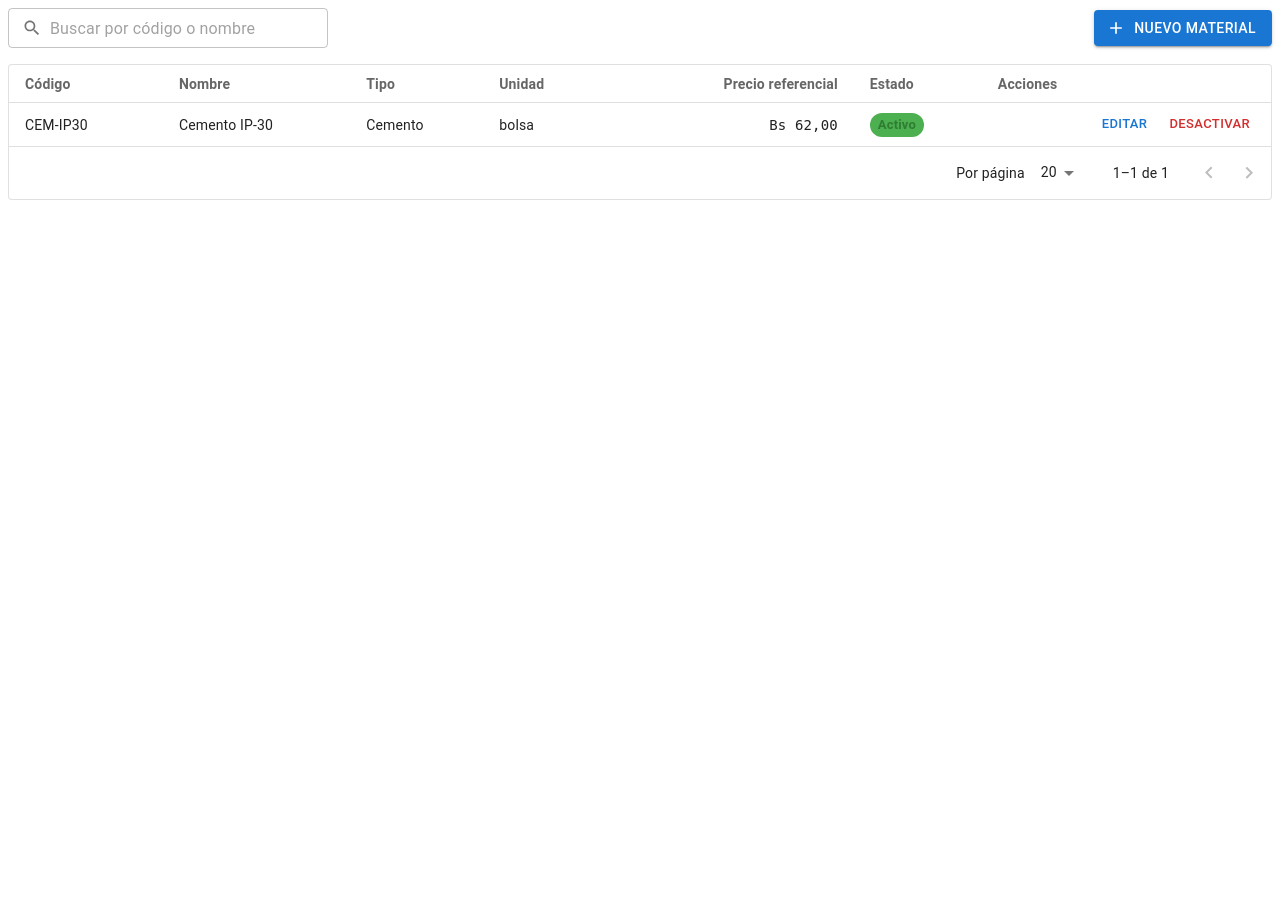
CatalogoPagina › editar abre el formulario con los datos del material y guarda con PUT completo
Click the button "Editar" at (1124, 125), box [1092, 109, 1156, 140]
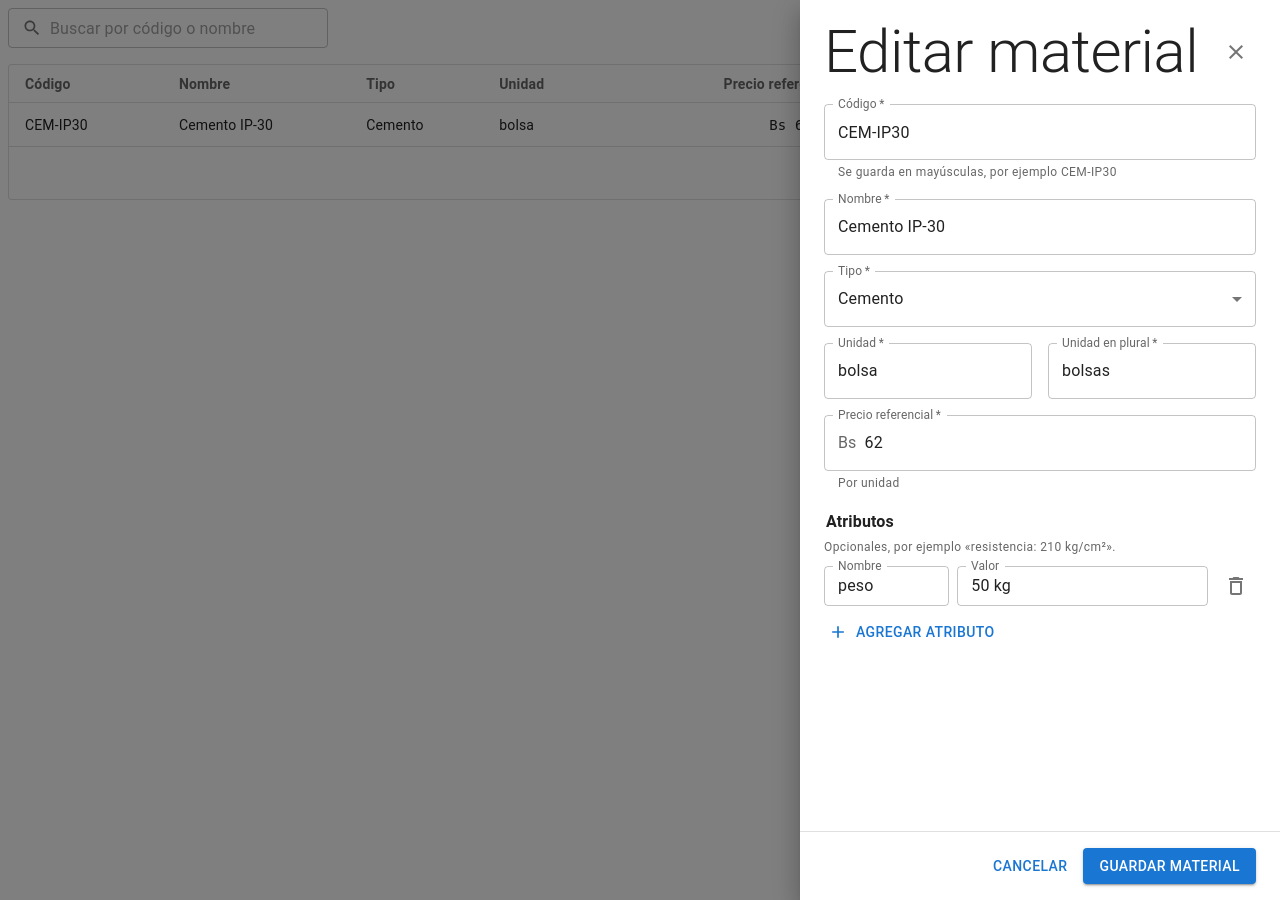
Check: the field named "Valor del atributo 1" holds "50 kg", box [957, 566, 1208, 606]
Replace the text in the field labelled "Nombre *" with "Cemento IP-30 Fancesa" at (1040, 227), box [824, 199, 1256, 255]
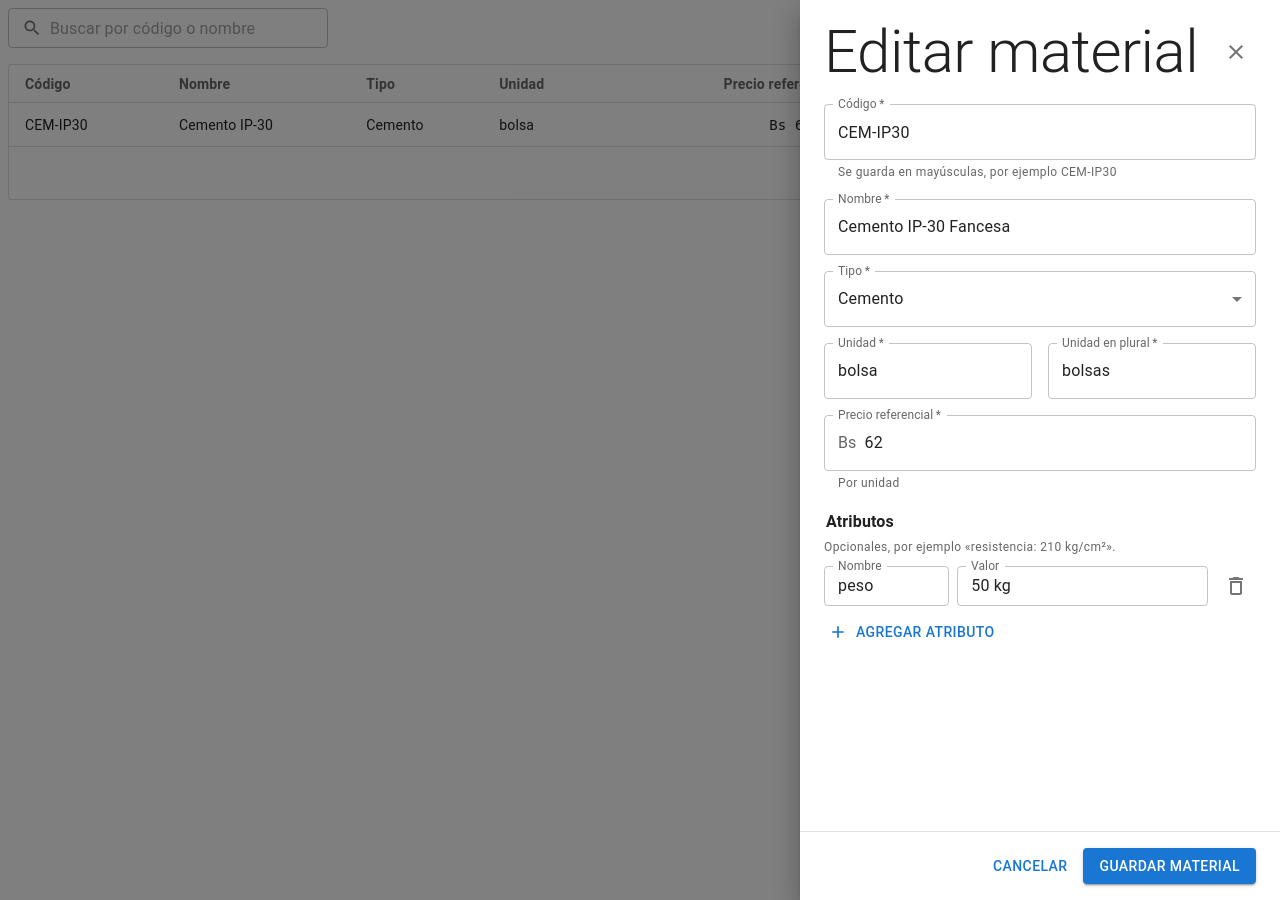
Click the button "Guardar material" at (1170, 866), box [1084, 848, 1256, 884]
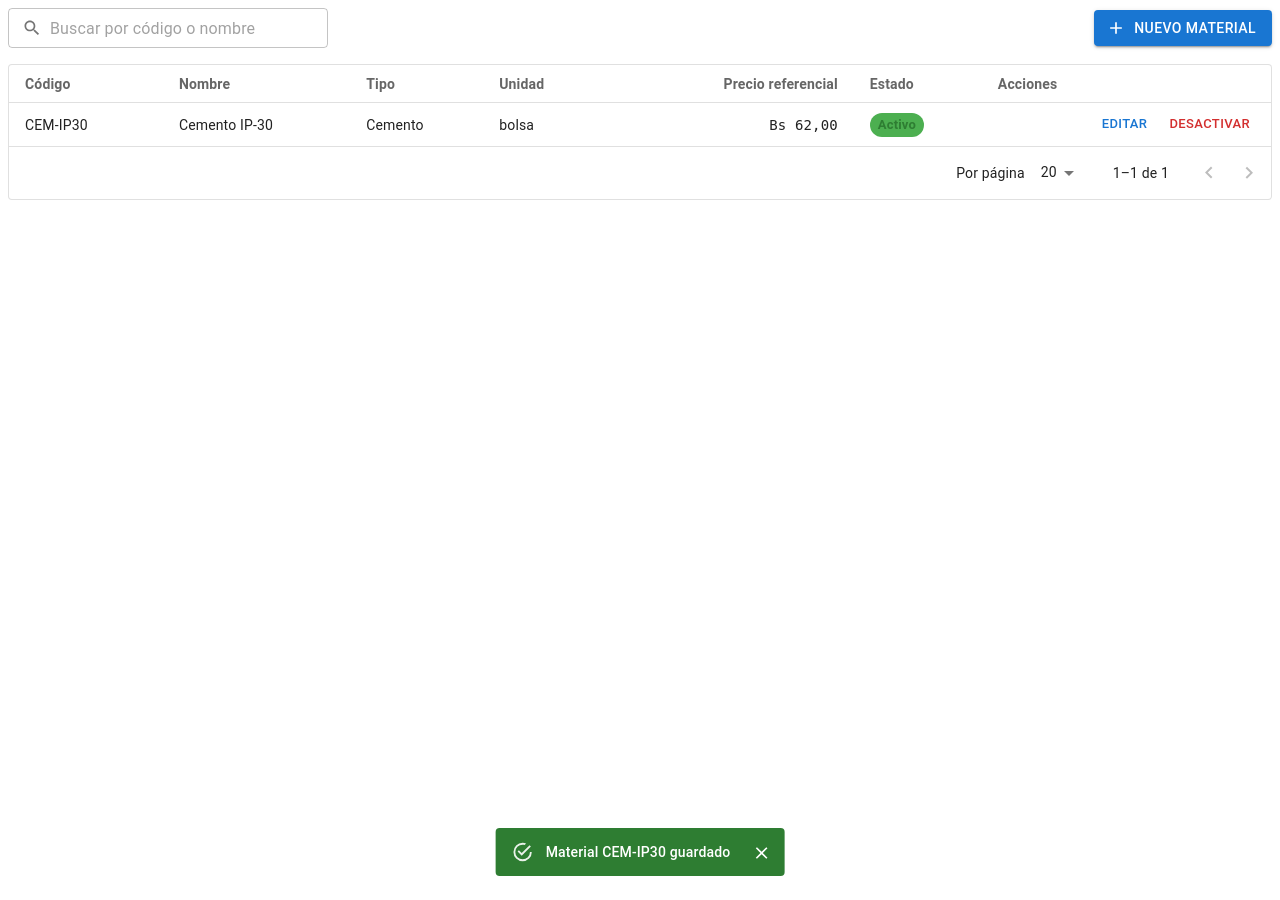
Check: the text "Material CEM-IP30 guardado" is shown, box [546, 844, 730, 860]
